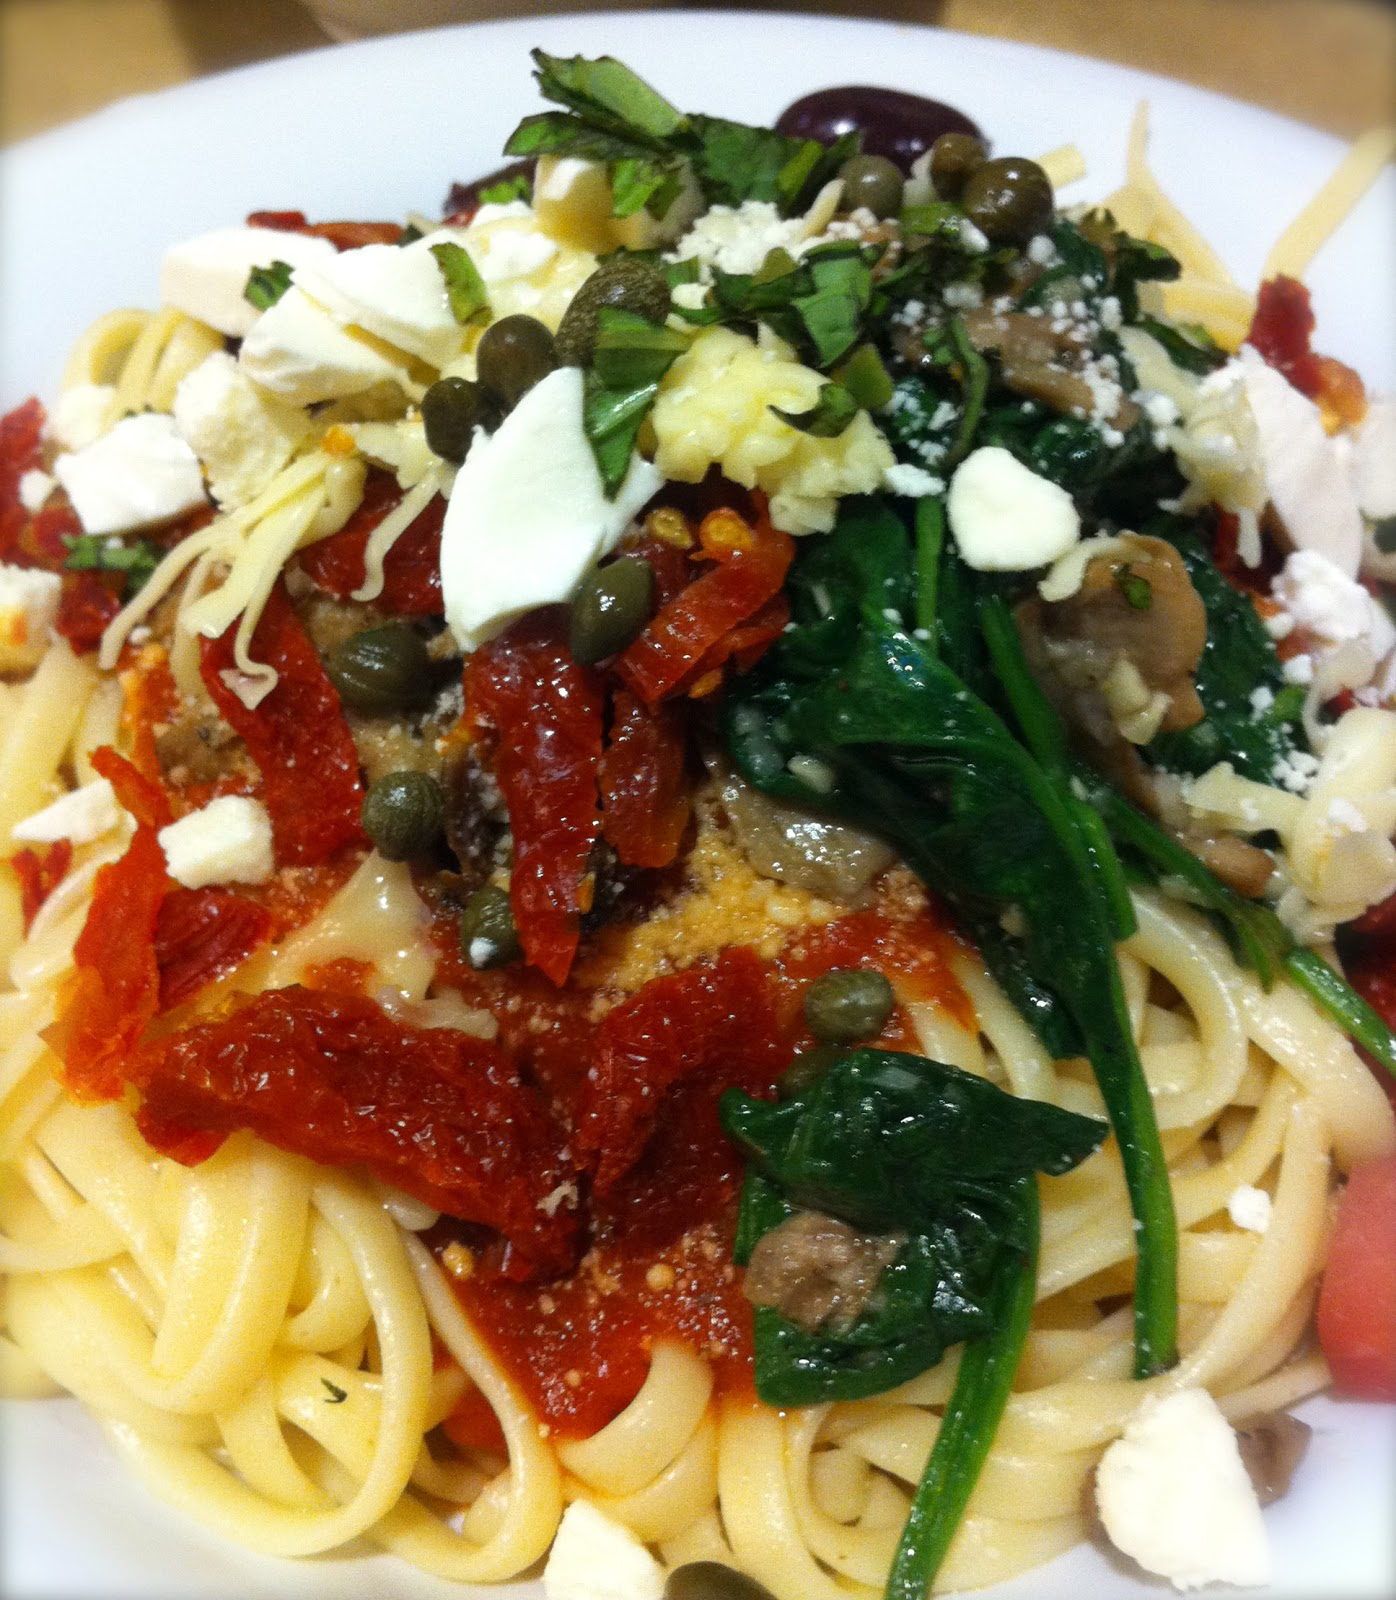plain spaghetti: (5, 531, 1318, 1563)
